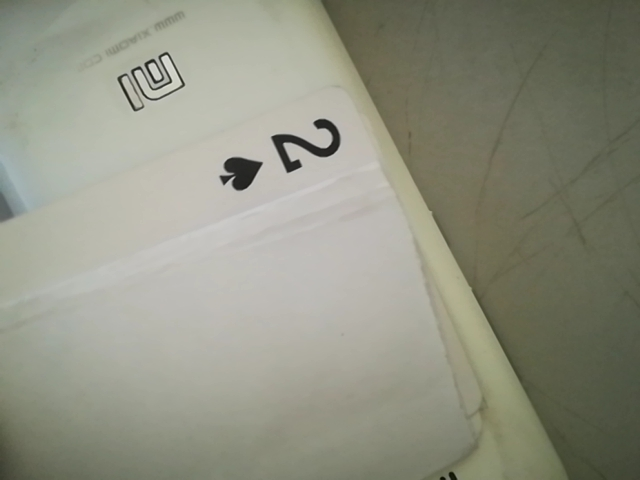ht 2: (202, 108, 365, 200)
